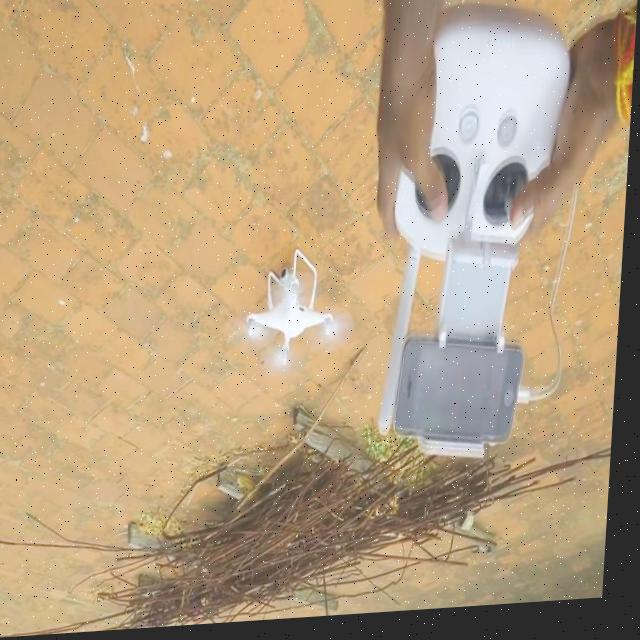drone: (240, 253, 358, 398)
